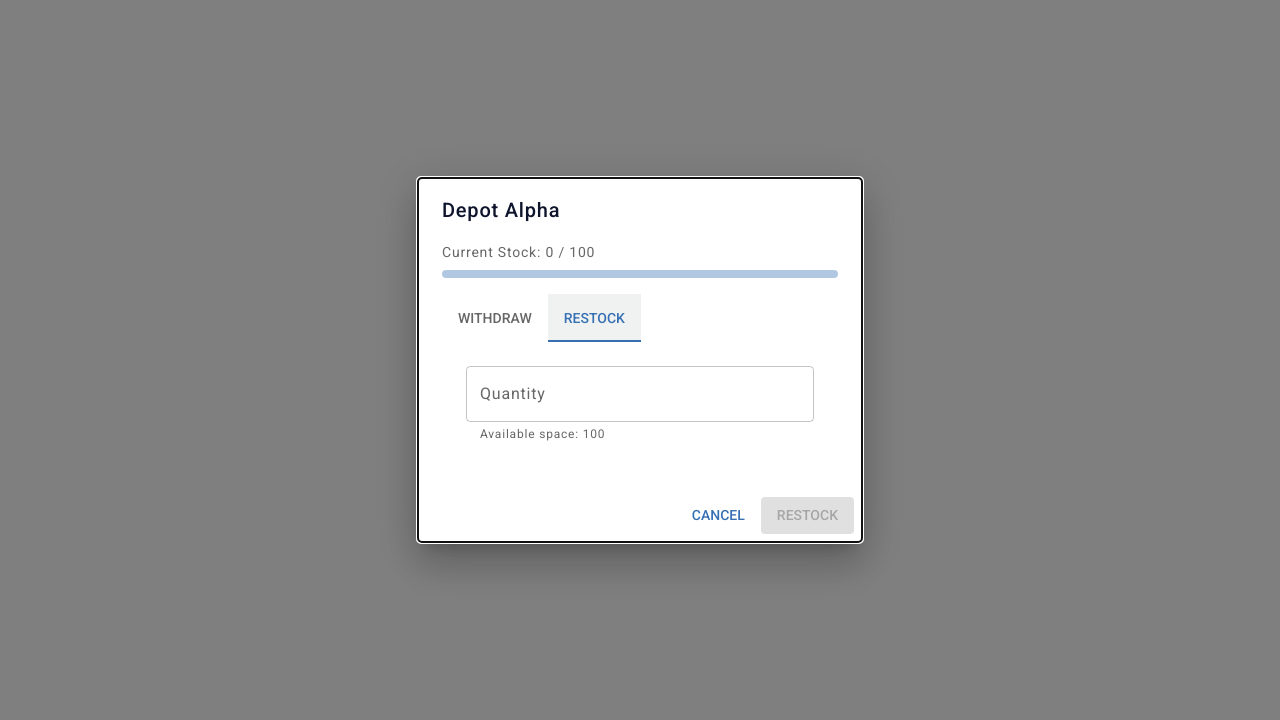
StockActionDialog › shows disabled field with helper text when no stock to withdraw
This screenshot has width=1280, height=720.
Check: the tab "Restock" is shown, box [548,294,641,342]
Click the tab "Withdraw" at (495, 318), box [442,294,548,342]
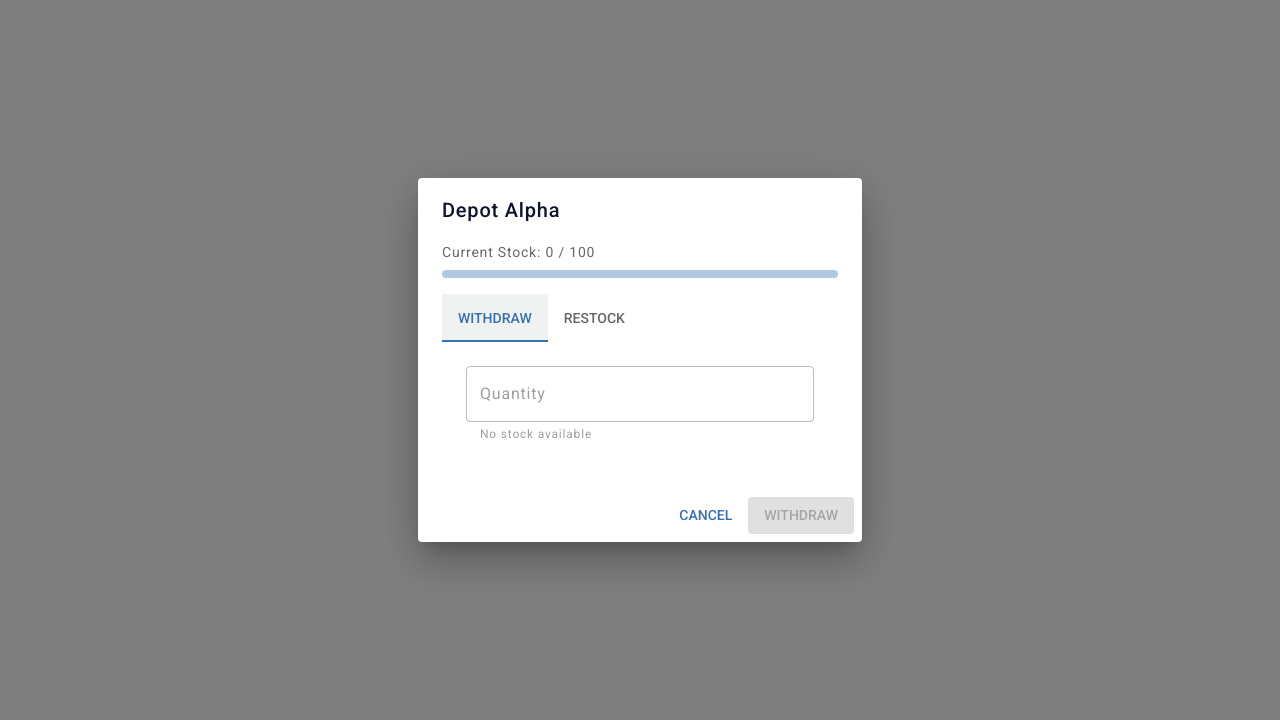
Check: the text "No stock available" is shown, box [480,427,592,441]
Check: the number field is disabled, box [466,366,814,422]
